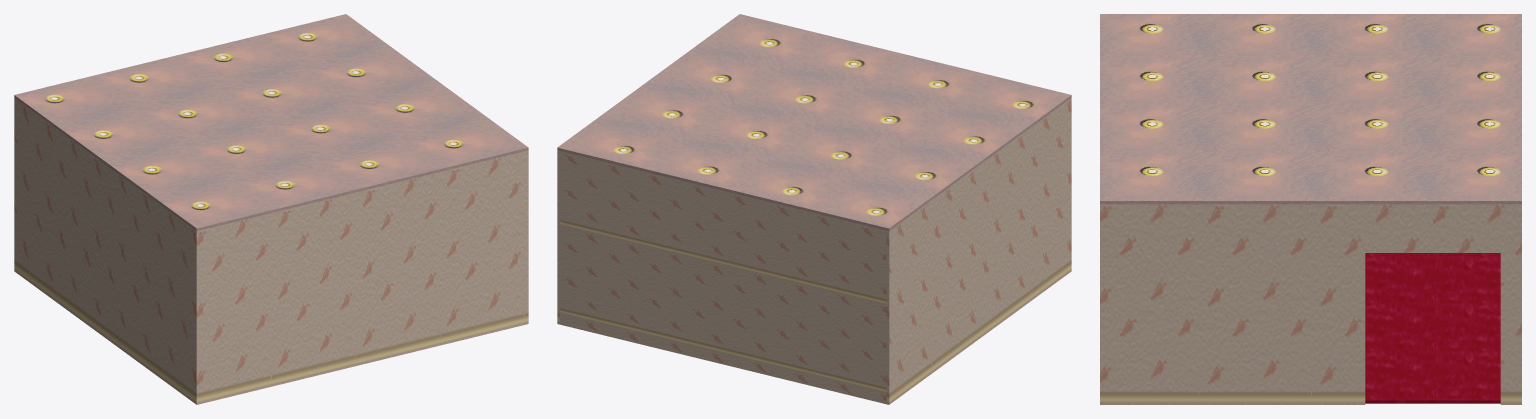
File: Intro12_brush.glb
3 views of the same model, side by side, from view 1: azimuth 30°, elevation 25°; view 2: azimuth 150°, elevation 25°; view 3: azimuth 270°, elevation 25° (orthographic). The views are drawn at different scales.
Parts seen in each view (by area): view 1: Intro12; view 2: Intro12; view 3: Intro12.
Part boxes in pixels (x1,y1,x2,y2): Intro12: (14, 14, 528, 404); Intro12: (557, 14, 1071, 404); Intro12: (1100, 14, 1521, 404).
Bounding box in the file's own units: 504 × 256 × 480.
4 materials, 4 textured.
